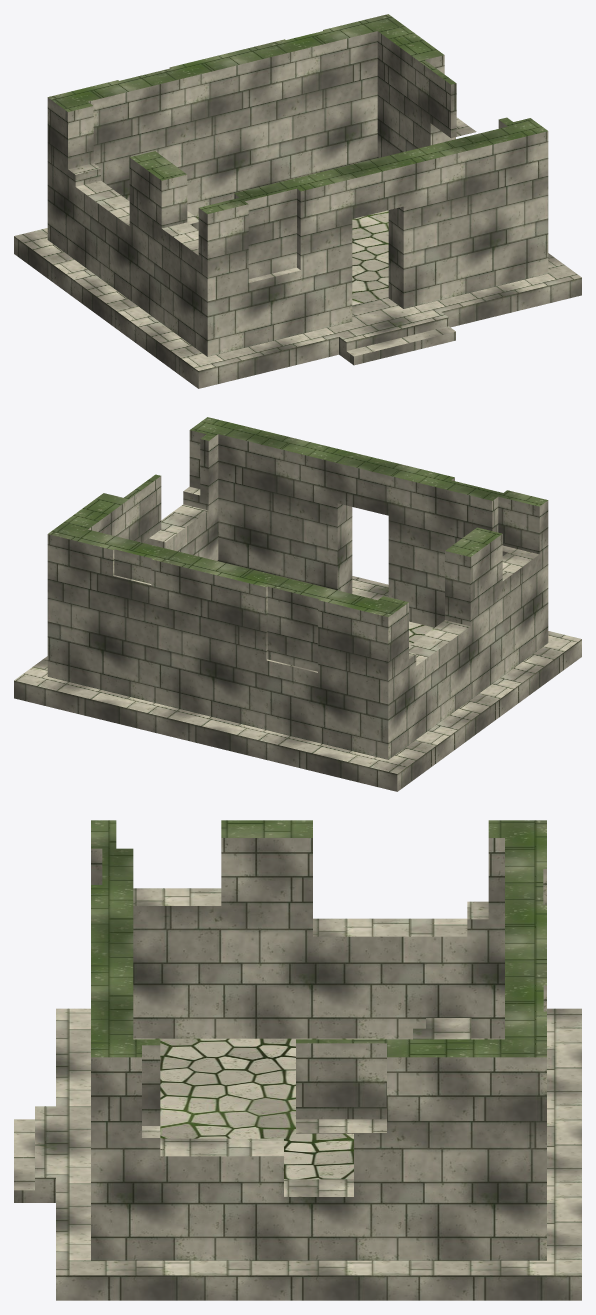
Rendered from ruin-house-a.ruins-v1.lod0.glb.
3 views of the same model, one above another, from view 1: azimuth 30°, elevation 25°; view 2: azimuth 150°, elevation 25°; view 3: azimuth 270°, elevation 25° (orthographic). The views are drawn at different scales.
Parts seen in each view (by area): view 1: ruin-house-a; view 2: ruin-house-a; view 3: ruin-house-a.
Part boxes in pixels (left/top/right/bottom): ruin-house-a: left=14, top=14, right=581, bottom=388; ruin-house-a: left=14, top=417, right=581, bottom=791; ruin-house-a: left=14, top=820, right=581, bottom=1300.
Bounding box in the file's own units: 9 × 3.6 × 8.1.
Materials: 3 (3 with a texture image).
